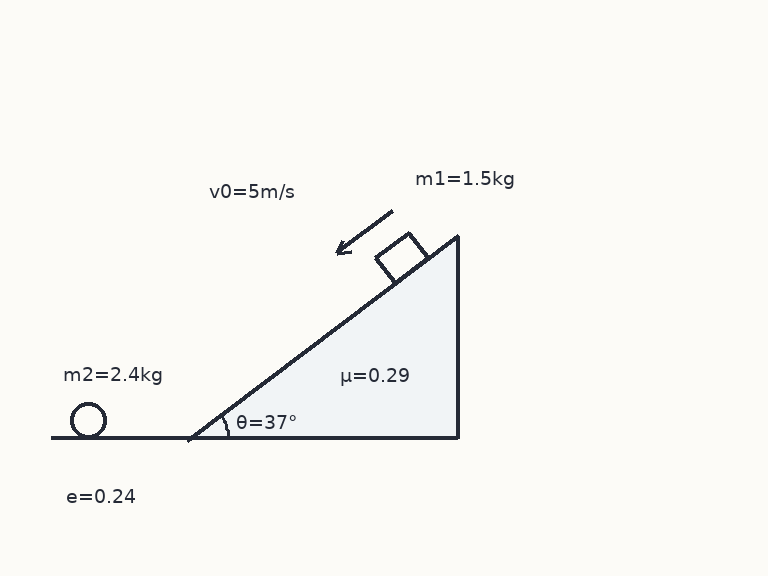ball: (68, 400, 108, 440)
block: (374, 231, 430, 285)
ramp: (186, 233, 459, 440)
